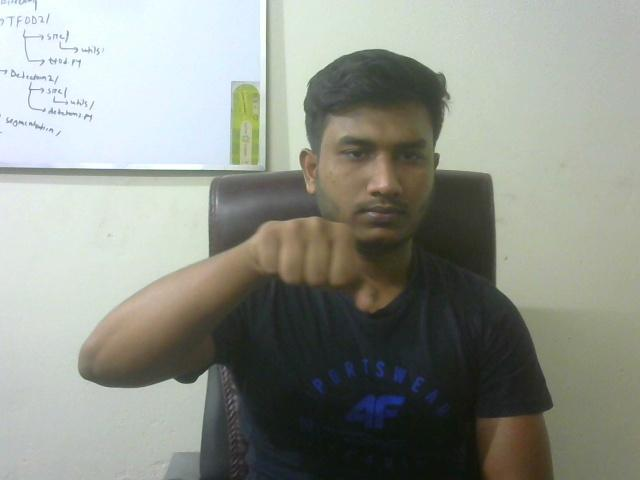Yes: (235, 207, 394, 336)
